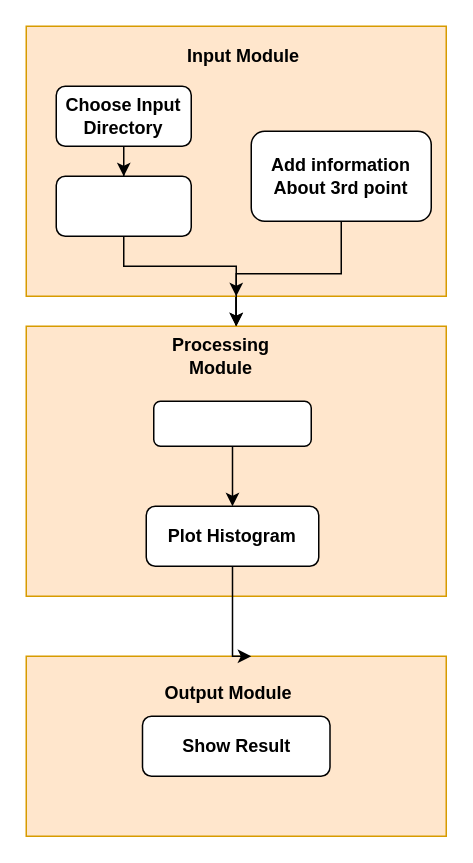
The diagram is 473 pixels wide and 863 high, and some of its shapes have lost their labels. The shapes that lost their labels are listed below. From the top down, each one's centre as x and y in pixels, then its label:
pixel 123 205: Load files in directory
pixel 231 423: Grouping
